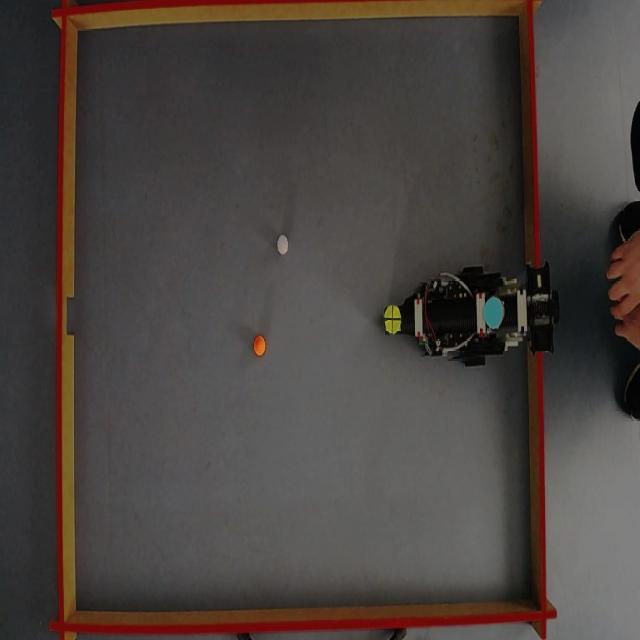orange: (253, 338, 266, 355)
robot: (391, 261, 559, 371)
robot-front: (384, 302, 402, 336)
robot-rear: (484, 292, 505, 329)
white: (277, 237, 290, 256)
